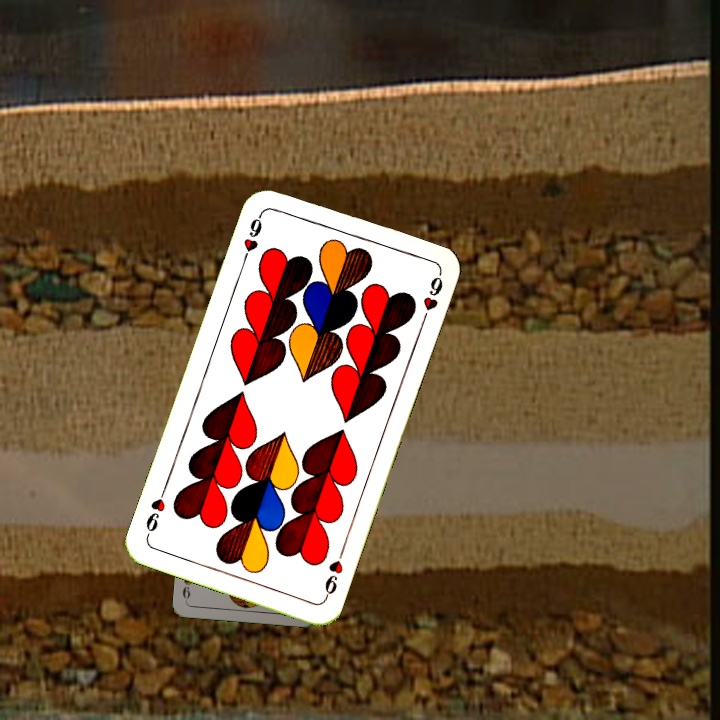H9: (238, 209, 266, 266), (320, 545, 347, 602)
